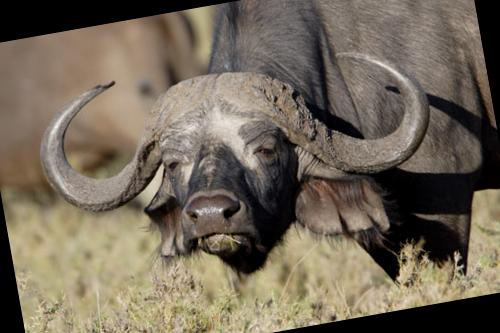Buffalo: (22, 0, 489, 291)
